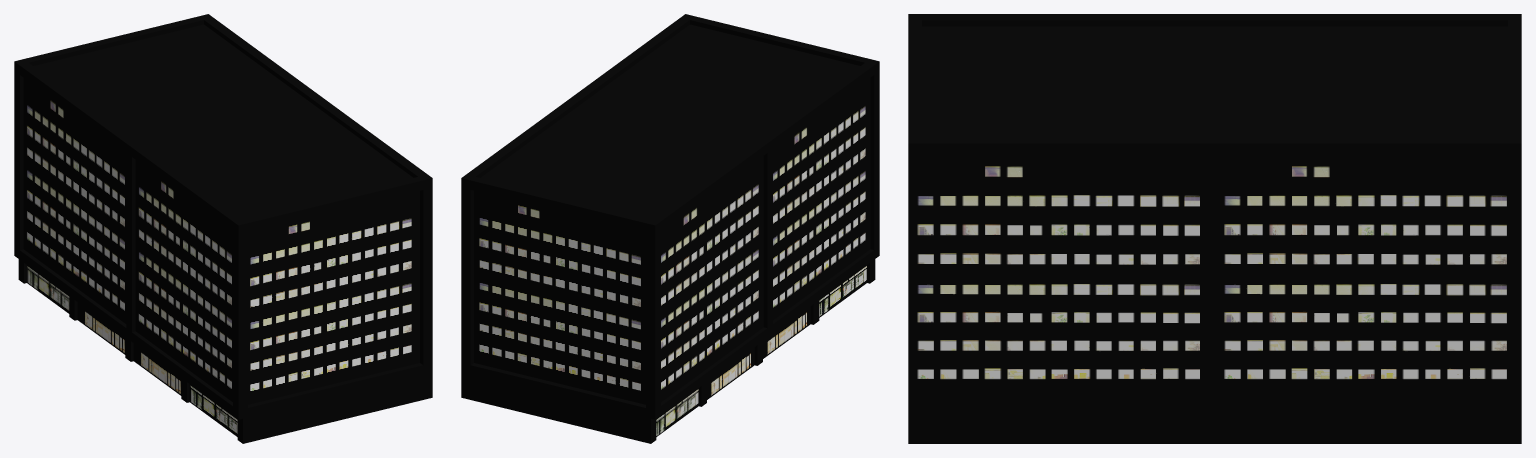
The model's file is building22.FBX.
3 renders of one model, left to right at view 1: azimuth 30°, elevation 25°; view 2: azimuth 150°, elevation 25°; view 3: azimuth 270°, elevation 25°, orthographic. The views are drawn at different scales.
Parts seen in each view (by area): view 1: Box001; view 2: Box001; view 3: Box001.
Boxes of the visible parts, x1,y1,x2,y2 form: Box001: (14,14,432,443); Box001: (461,14,879,443); Box001: (908,14,1521,443).
Bounding box in the file's own units: 100 × 108 × 200.
